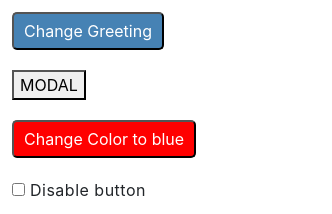
Test: Checkbox disables button on first click and enables on second click
Note: Fire click event on checkbox and expect button to be disabled.
Click the checkbox labelled "Disable button" at [18, 190], box 12,183 -> 25,196
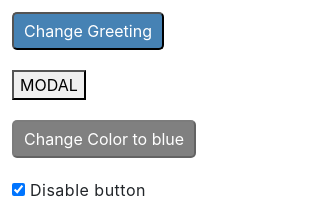
expect the button "Change Color to blue" is disabled: met, box 12,120 -> 196,158
Note: Fire click event on checkbox and expect button to be enabled.
Click the checkbox labelled "Disable button" at [18, 190], box 12,183 -> 25,196
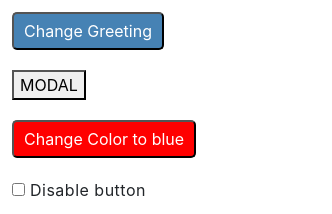
expect the button "Change Color to blue" is enabled: met, box 12,120 -> 196,158
